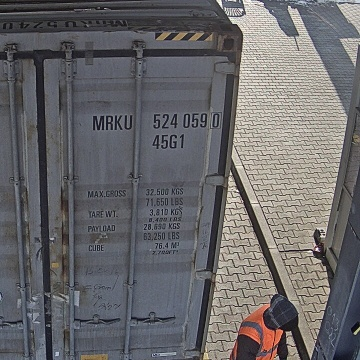serial_id: (93, 113, 220, 130)
